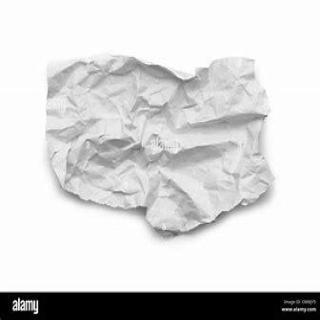Anorganik: (40, 49, 277, 236)
